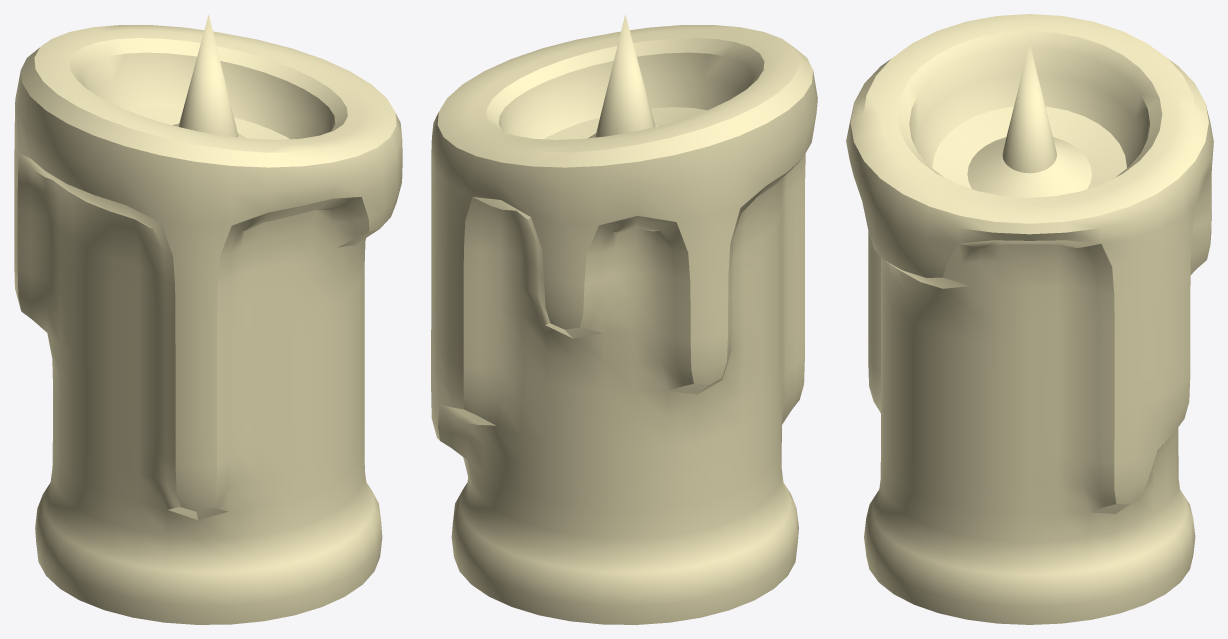
Rendered from small candle.fbx.
3 renders of one model, left to right at view 1: azimuth 30°, elevation 25°; view 2: azimuth 150°, elevation 25°; view 3: azimuth 270°, elevation 25°, orthographic. The views are drawn at different scales.
Parts seen in each view (by area): view 1: smol candle; view 2: smol candle; view 3: smol candle.
Part boxes in pixels (<box>): smol candle: <box>14,14,402,624</box>; smol candle: <box>431,14,817,624</box>; smol candle: <box>846,14,1213,624</box>.
Size of the model in its own units: 9.63 by 14.83 by 9.64.
